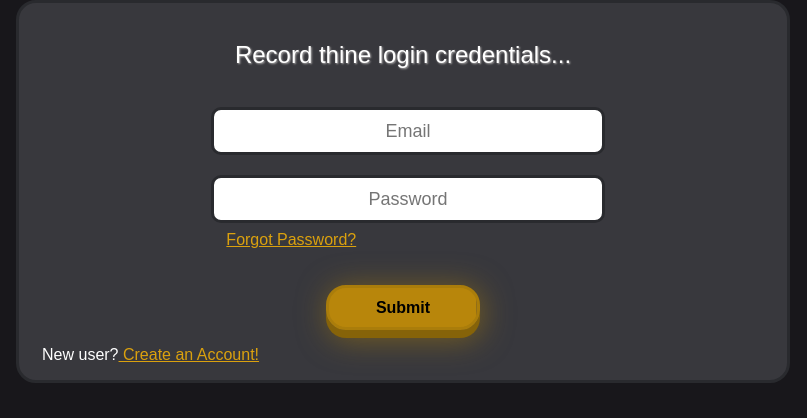
Test: Login Component › shows error message on failed login
Type "wrong@test.com" into the field with placeholder "Email" at (408, 131), box [211,107,605,155]
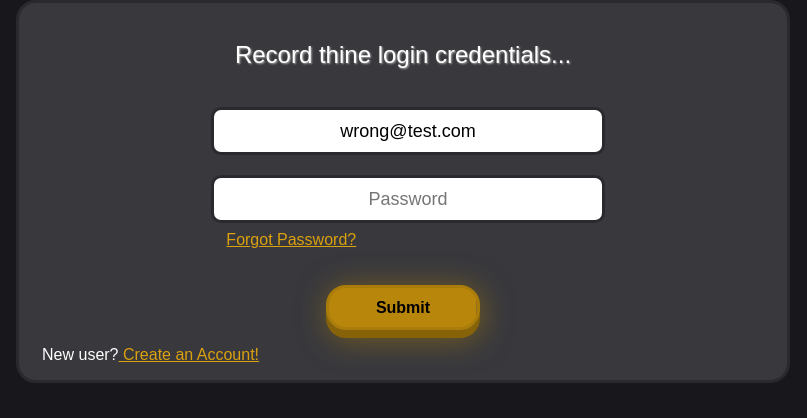
Type "wrongpass" into the password field with placeholder "Password" at (408, 199), box [211,175,605,223]
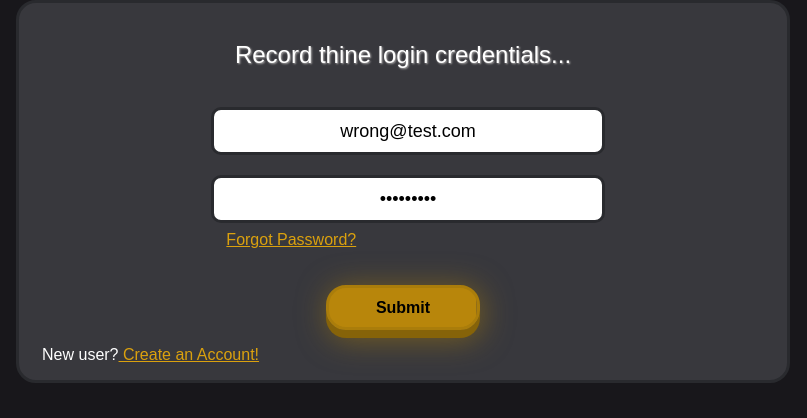
Click the button showing "Submit" at (403, 308), box [326,285,480,330]
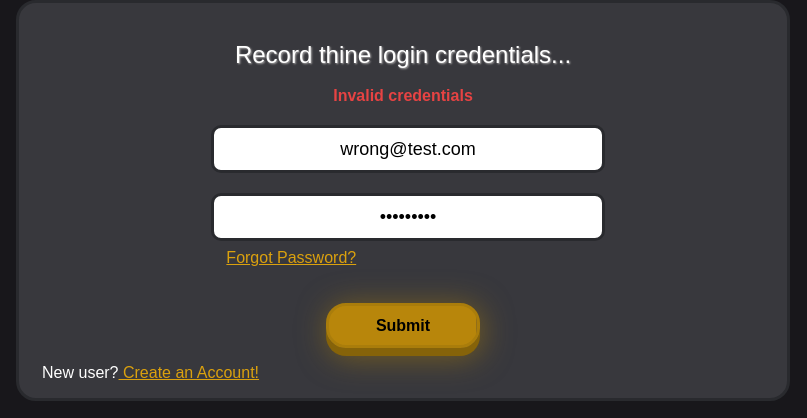
Expected: the text "Invalid credentials" is shown, [333,87,473,104]
